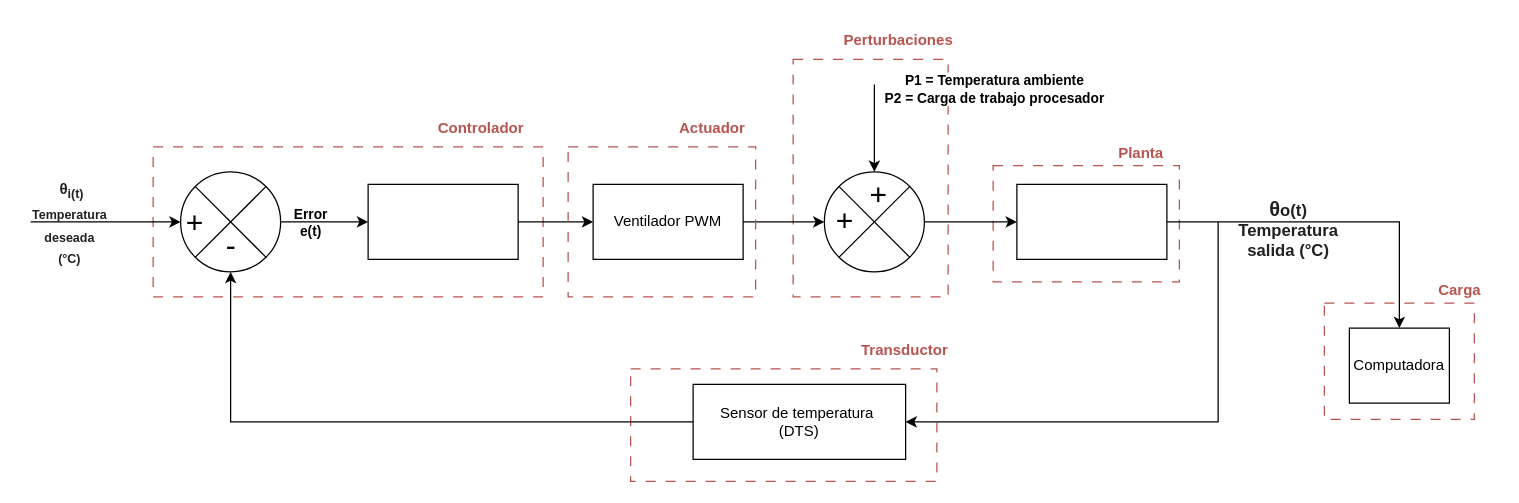
Image size: 1519x503. Some labels were removed from this diagram. The centre of each missing label's shape, as x and y in pixels:
Controlador Digital de temperatura: point (442, 221)
Proceso disipación de calor: point (1091, 221)
